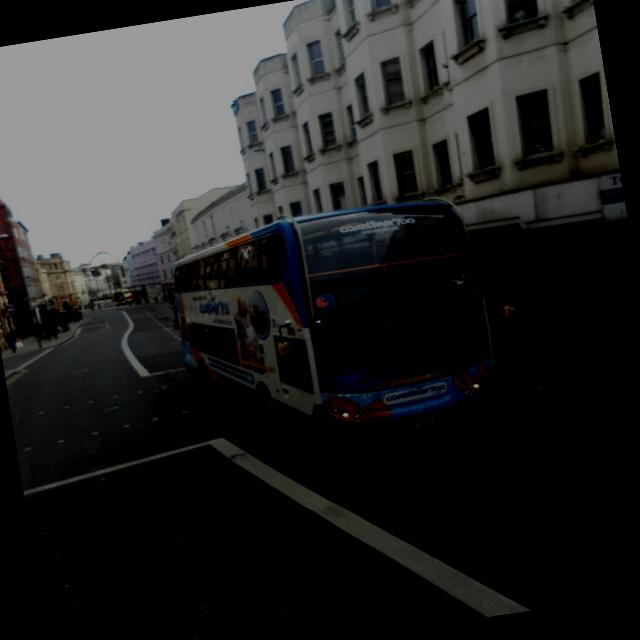Vehicle: (160, 184, 506, 469)
